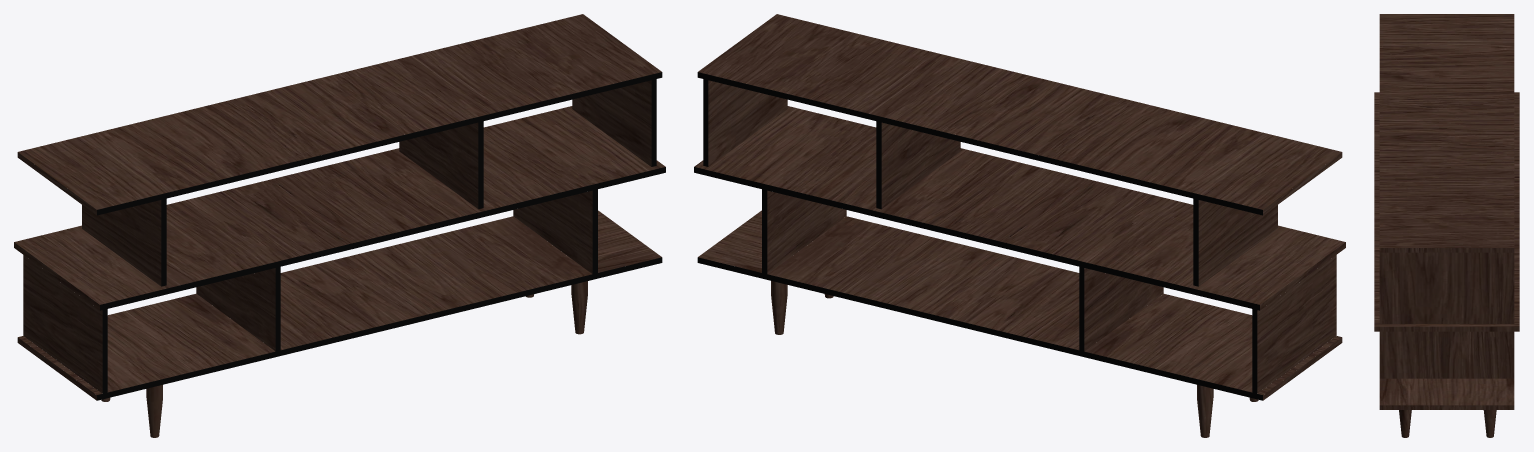
The model's file is mini-biblioteca.7c99ba9b29.glb.
The picture shows the model from 3 angles, left to right: view 1: azimuth 30°, elevation 25°; view 2: azimuth 150°, elevation 25°; view 3: azimuth 270°, elevation 25°; orthographic projection. The views are drawn at different scales.
Visible parts, largest first — view 1: S_tvstand_A_EHH_01_tvstand2_0, S_tvstand_A_EHH_01_tvstand4_0, S_tvstand_A_EHH_01_tvstand5_0; view 2: S_tvstand_A_EHH_01_tvstand2_0, S_tvstand_A_EHH_01_tvstand4_0, S_tvstand_A_EHH_01_tvstand3_0; view 3: S_tvstand_A_EHH_01_tvstand2_0, S_tvstand_A_EHH_01_tvstand1_0, S_tvstand_A_EHH_01_tvstand4_0.
Boxes of the visible parts, x1,y1,x2,y2 form: S_tvstand_A_EHH_01_tvstand2_0: [14, 14, 665, 394]; S_tvstand_A_EHH_01_tvstand4_0: [14, 80, 651, 437]; S_tvstand_A_EHH_01_tvstand5_0: [97, 72, 665, 400]; S_tvstand_A_EHH_01_tvstand2_0: [694, 14, 1345, 394]; S_tvstand_A_EHH_01_tvstand4_0: [708, 80, 1345, 437]; S_tvstand_A_EHH_01_tvstand3_0: [694, 72, 1262, 400]; S_tvstand_A_EHH_01_tvstand2_0: [1374, 14, 1519, 405]; S_tvstand_A_EHH_01_tvstand1_0: [1374, 248, 1519, 409]; S_tvstand_A_EHH_01_tvstand4_0: [1399, 410, 1496, 437].
Size of the model in its own units: 1.42 by 0.6104 by 0.3725.
6 materials, 3 textured.
